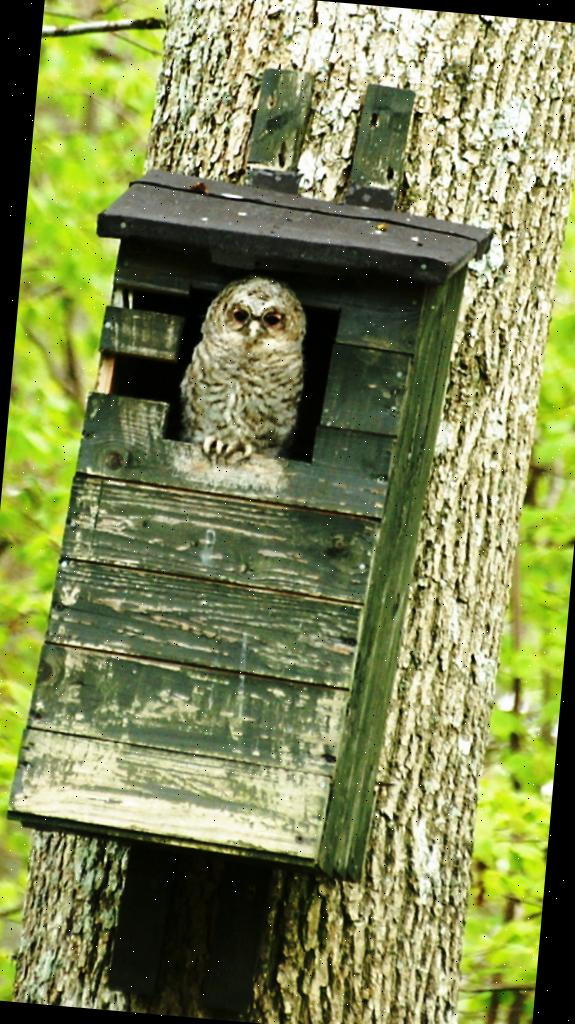Owl: (170, 268, 316, 478)
